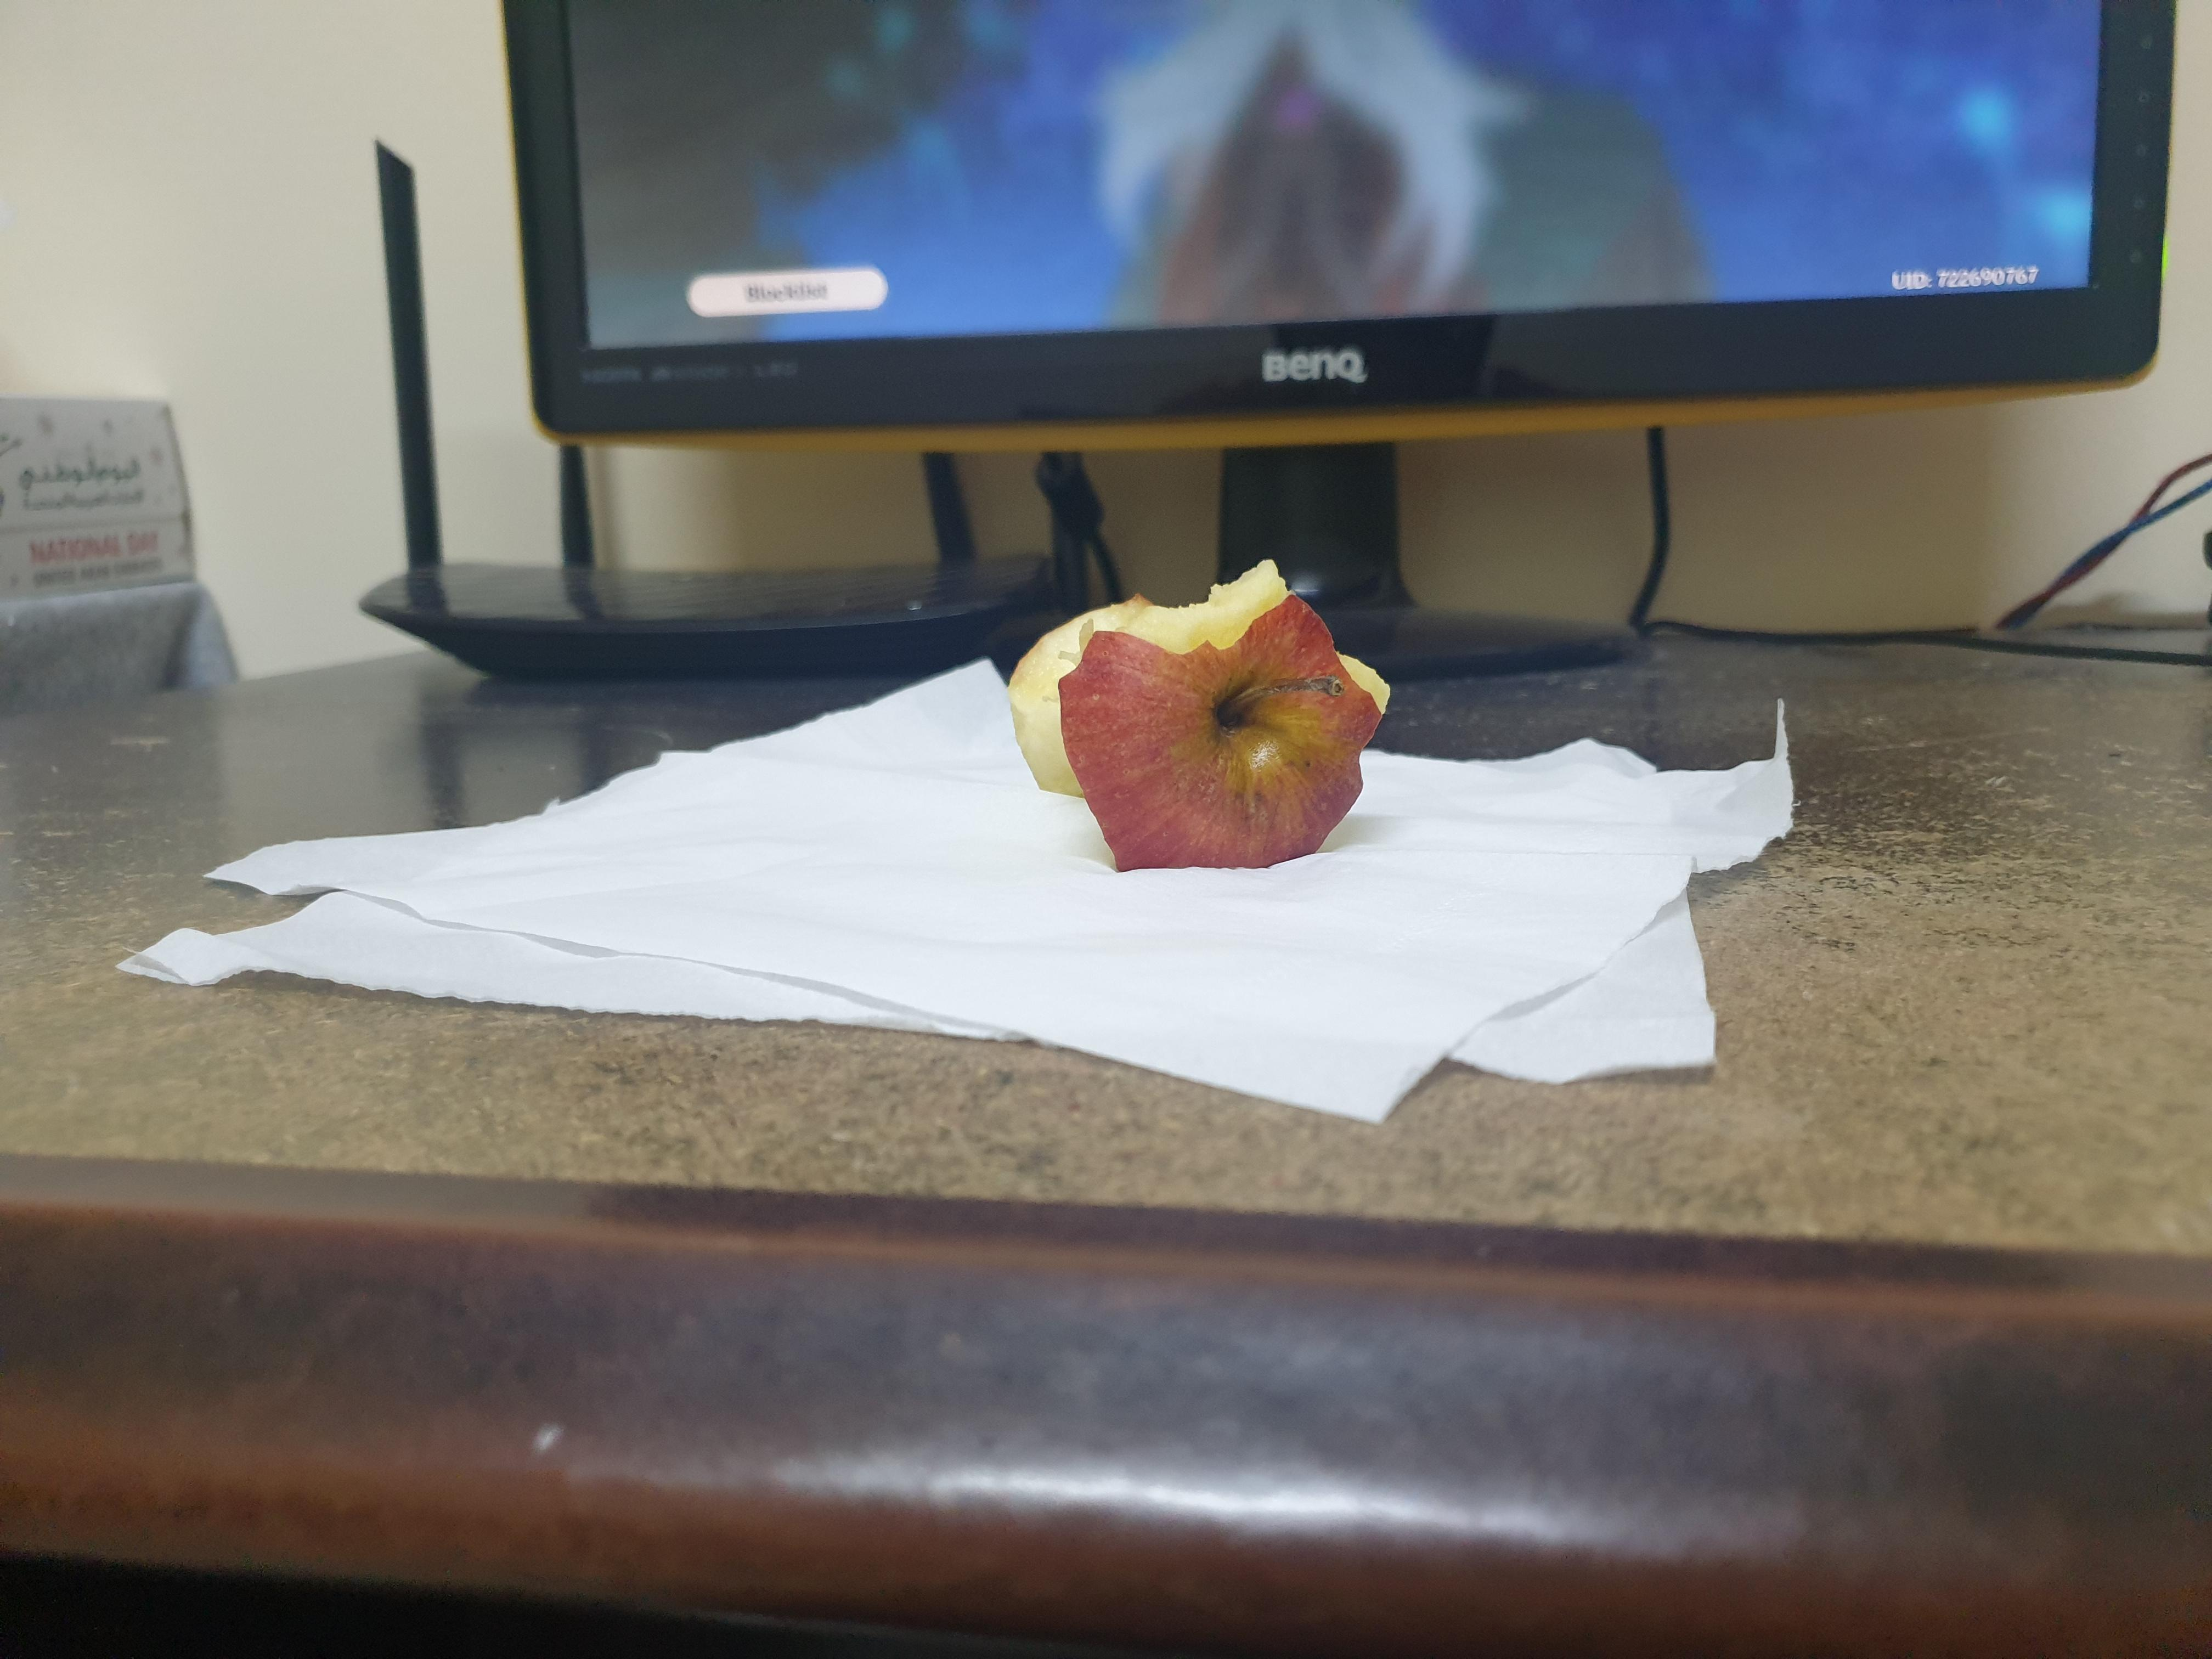Apple: (975, 552, 1426, 884)
